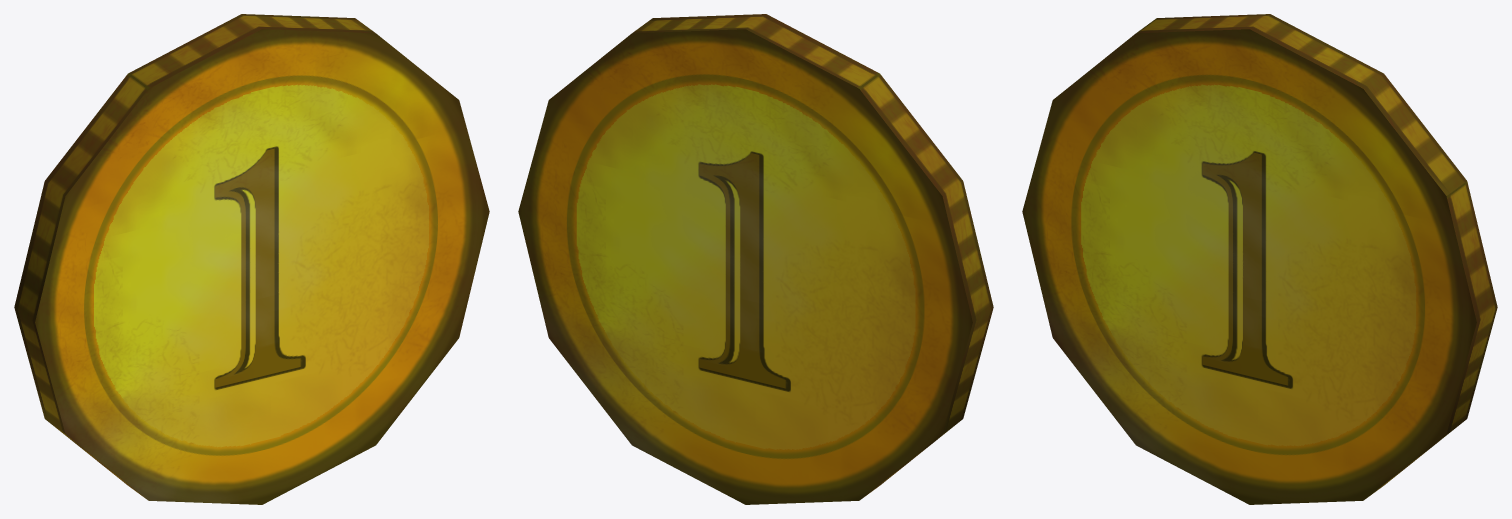
Rendered from coin.fbx.
3 views of the same model, side by side, from view 1: azimuth 30°, elevation 25°; view 2: azimuth 150°, elevation 25°; view 3: azimuth 330°, elevation 25° (orthographic).
Parts seen in each view (by area): view 1: round; view 2: round; view 3: round.
Part boxes in pixels (left/top/right/bottom): round: left=14, top=14, right=489, bottom=504; round: left=518, top=14, right=993, bottom=504; round: left=1022, top=14, right=1497, bottom=504.
Bounding box in the file's own units: 80 × 80 × 6.32.
